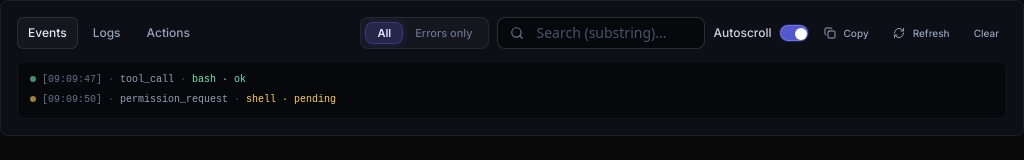
Test case: DevboxConsole error filter › events tab shows the filtered-empty hint when nothing failed
Click the button "Errors only".
click(444, 33)  # box [403, 21, 484, 45]
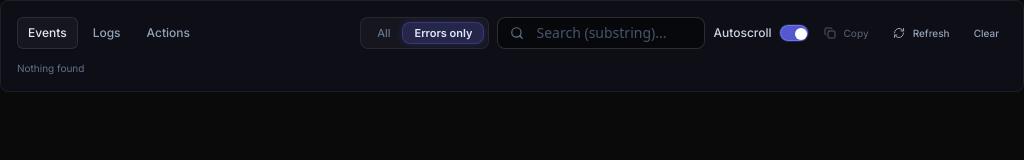
Expected: the element with test id "devbox-events-river" is gone
Expected: the text with test id "devbox-console-empty" reads "Nothing found", [17, 62, 84, 74]
